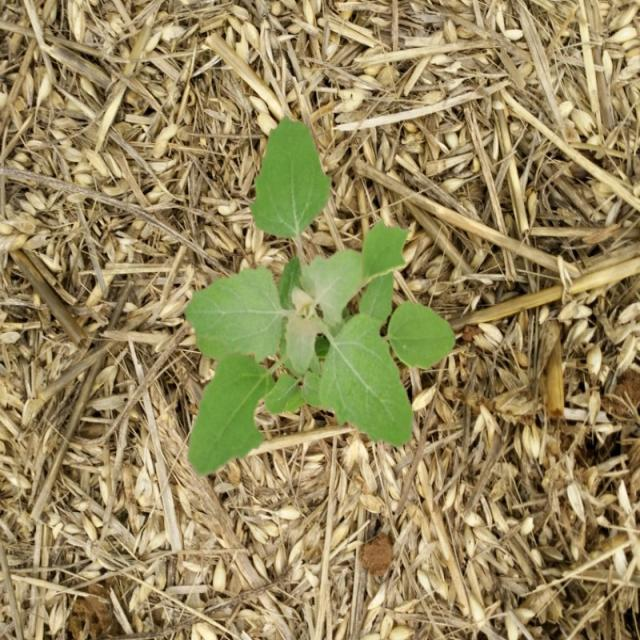goosefoots: (146, 127, 466, 474)
